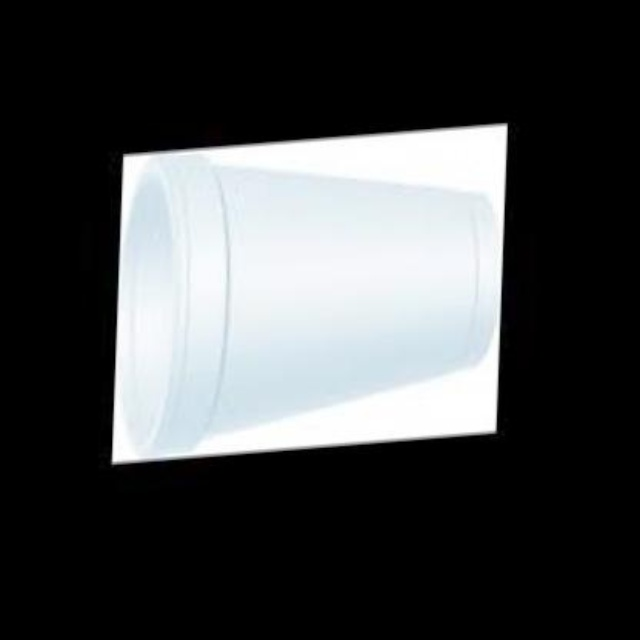trash: (112, 125, 505, 462)
